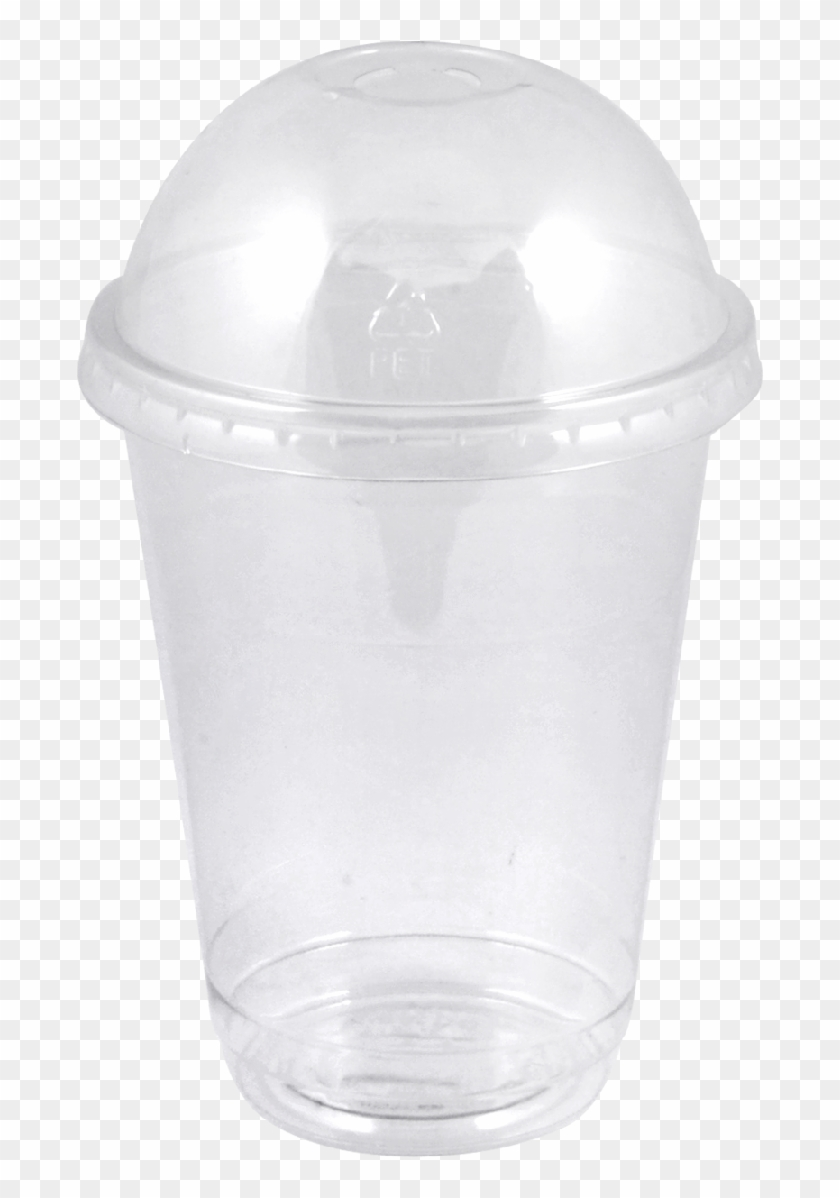plastic_glass: (52, 20, 780, 1171)
